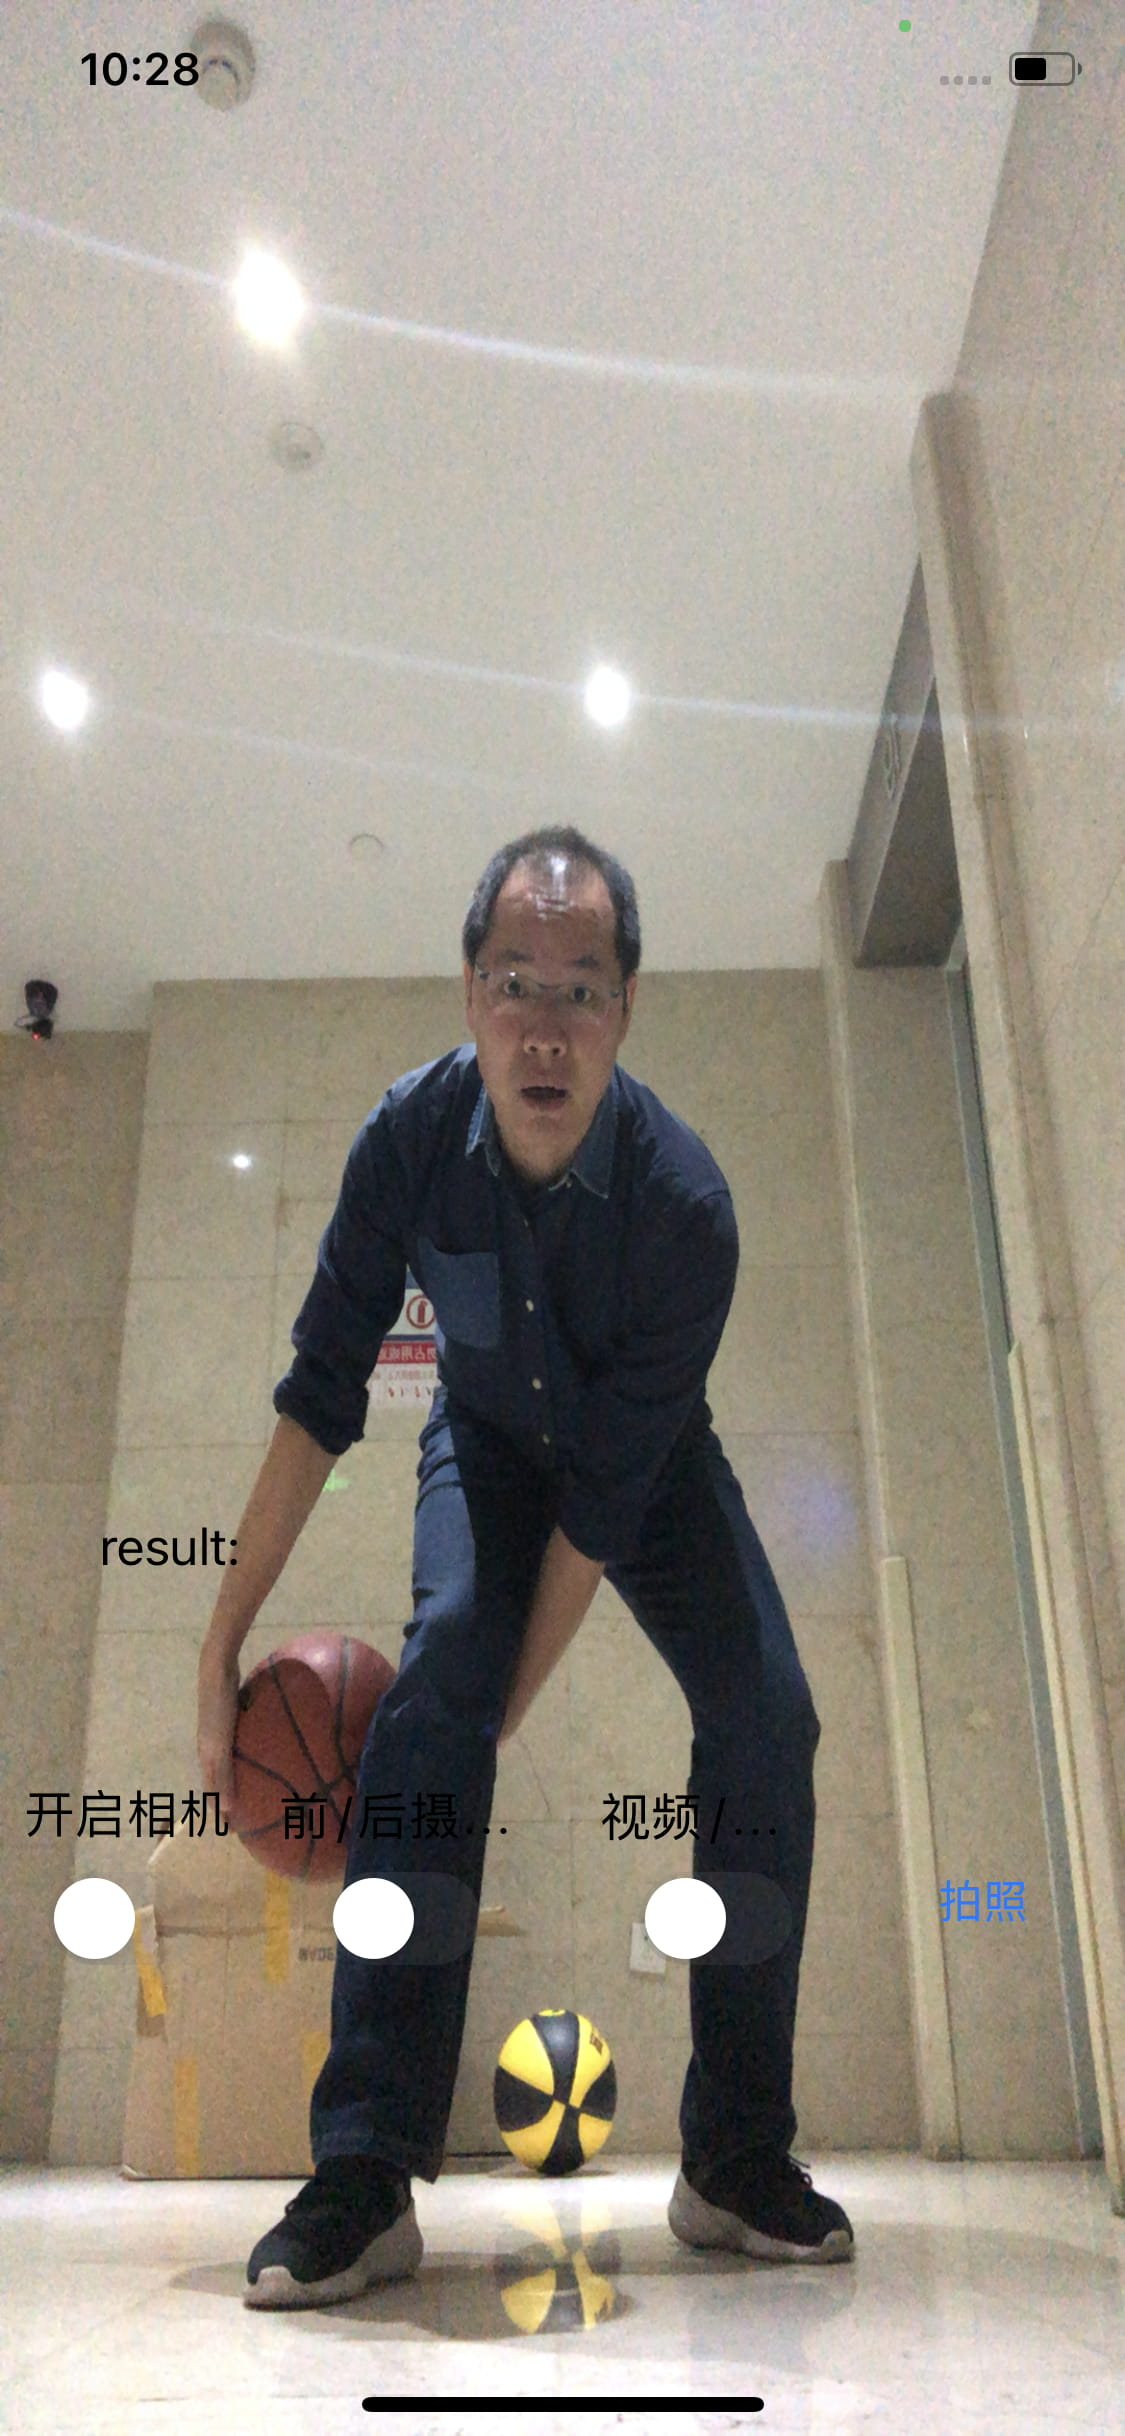ball: (211, 1633, 409, 1886)
